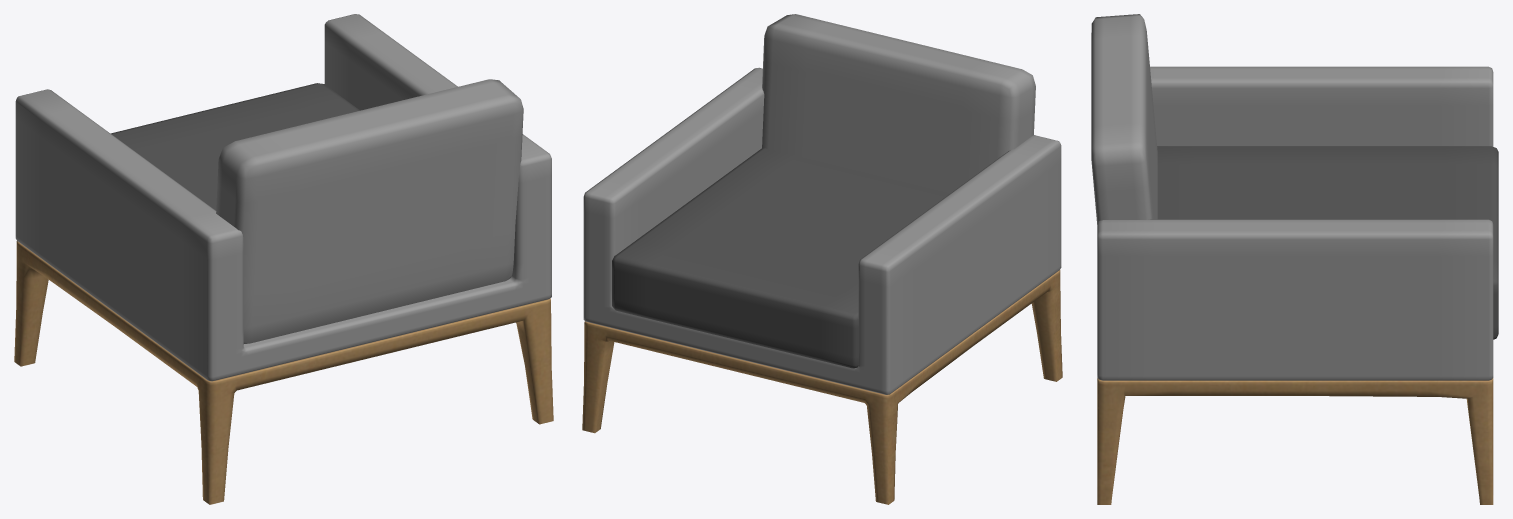
The model's file is Waiting Room Fabric Chair.fbx.
3 views of the same model, side by side, from view 1: azimuth 30°, elevation 25°; view 2: azimuth 150°, elevation 25°; view 3: azimuth 270°, elevation 25° (orthographic). The views are drawn at different scales.
Parts seen in each view (by area): view 1: Fabric_Chair; view 2: Fabric_Chair; view 3: Fabric_Chair.
Part boxes in pixels (x1,y1,x2,y2): Fabric_Chair: [14, 14, 553, 504]; Fabric_Chair: [582, 14, 1062, 504]; Fabric_Chair: [1091, 14, 1498, 504].
Size of the model in its own units: 94.69 by 88.73 by 95.84.
